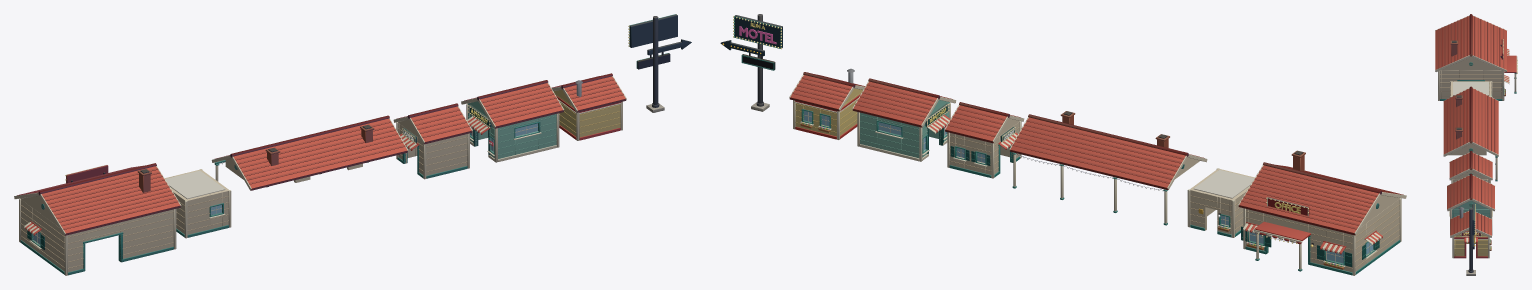
Rendered from motel_kit_batch3.fbx.
The picture shows the model from 3 angles, left to right: view 1: azimuth 30°, elevation 25°; view 2: azimuth 150°, elevation 25°; view 3: azimuth 270°, elevation 25°; orthographic projection. The views are drawn at different scales.
Visible parts, largest first — view 1: SM_Bld_RoomRoof_Roof, SM_Bld_Office_Roof, SM_Bld_Office_Walls, SM_Bld_Room_Walls, SM_Bld_Shop_Roof, SM_Bld_Shop_Walls, SM_Bld_LinenShed_Walls, SM_Bld_Office_Trim, SM_Bld_LinenShed_Roof, SM_Bld_MotelSign_Sign, SM_Bld_Kitchen_Roof, SM_Bld_Kitchen_Walls (+5 smaller); view 2: SM_Bld_RoomRoof_Roof, SM_Bld_Office_Roof, SM_Bld_Office_Walls, SM_Bld_Room_Walls, SM_Bld_Shop_Roof, SM_Bld_Office_Trim, SM_Bld_Shop_Walls, SM_Bld_Kitchen_Roof, SM_Bld_LinenShed_Roof, SM_Bld_MotelSign_Sign, SM_Bld_LinenShed_Walls, SM_Bld_LinenShed_Trim (+8 smaller); view 3: SM_Bld_RoomRoof_Roof, SM_Bld_Office_Roof, SM_Bld_Office_Walls, SM_Bld_Shop_Roof, SM_Bld_LinenShed_Roof, SM_Bld_Kitchen_Roof, SM_Bld_Office_Trim, SM_Bld_Room_Walls, SM_Bld_Kitchen_Trim, SM_Bld_Kitchen_Walls, SM_Bld_Shop_Walls, SM_Bld_MotelSign_Trim (+8 smaller).
Part boxes in pixels (x1,y1,x2,y2): SM_Bld_RoomRoof_Roof: [215, 115, 407, 190]; SM_Bld_Office_Roof: [17, 163, 180, 235]; SM_Bld_Office_Walls: [20, 196, 173, 272]; SM_Bld_Room_Walls: [165, 169, 228, 234]; SM_Bld_Shop_Roof: [464, 80, 563, 128]; SM_Bld_Shop_Walls: [467, 101, 556, 158]; SM_Bld_LinenShed_Walls: [398, 119, 467, 175]; SM_Bld_Office_Trim: [14, 166, 181, 275]; SM_Bld_LinenShed_Roof: [396, 103, 472, 144]; SM_Bld_MotelSign_Sign: [629, 14, 691, 69]; SM_Bld_Kitchen_Roof: [551, 73, 626, 112]; SM_Bld_Kitchen_Walls: [553, 90, 620, 137]; SM_Bld_RoomRoof_Roof: [1010, 111, 1204, 189]; SM_Bld_Office_Roof: [1238, 150, 1403, 235]; SM_Bld_Office_Walls: [1245, 195, 1400, 272]; SM_Bld_Room_Walls: [1190, 169, 1254, 234]; SM_Bld_Shop_Roof: [852, 78, 952, 127]; SM_Bld_Office_Trim: [1238, 165, 1406, 275]; SM_Bld_Shop_Walls: [860, 100, 949, 158]; SM_Bld_Kitchen_Roof: [789, 68, 864, 111]; SM_Bld_LinenShed_Roof: [945, 102, 1020, 143]; SM_Bld_MotelSign_Sign: [720, 15, 782, 70]; SM_Bld_LinenShed_Walls: [949, 118, 1019, 174]; SM_Bld_LinenShed_Trim: [944, 105, 1024, 178]; SM_Bld_RoomRoof_Roof: [1443, 86, 1498, 156]; SM_Bld_Office_Roof: [1435, 14, 1506, 71]; SM_Bld_Office_Walls: [1440, 57, 1502, 98]; SM_Bld_Shop_Roof: [1447, 173, 1494, 210]; SM_Bld_LinenShed_Roof: [1449, 151, 1492, 179]; SM_Bld_Kitchen_Roof: [1450, 207, 1491, 237]; SM_Bld_Office_Trim: [1435, 15, 1516, 100]; SM_Bld_Room_Walls: [1450, 81, 1491, 96]; SM_Bld_Kitchen_Trim: [1450, 211, 1491, 258]; SM_Bld_Kitchen_Walls: [1454, 230, 1487, 256]; SM_Bld_Shop_Walls: [1452, 200, 1490, 217]; SM_Bld_MotelSign_Trim: [1466, 208, 1475, 275].
Bounding box in the file's own units: 223 × 30 × 34.6.
